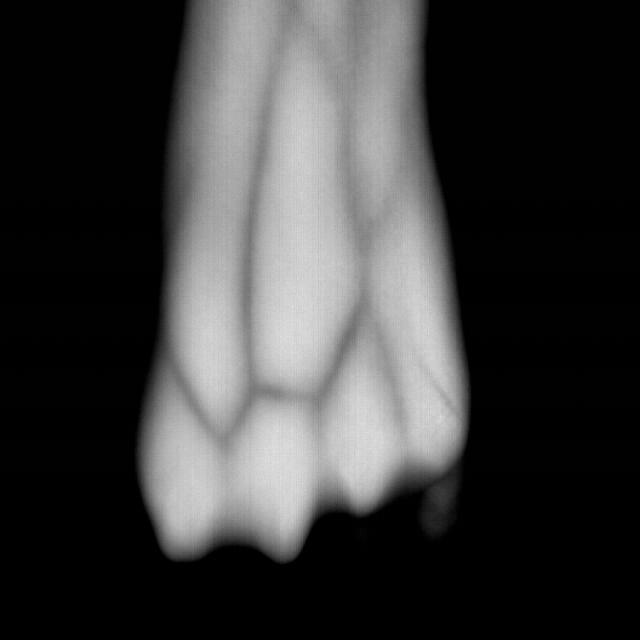Vein: (234, 38, 367, 424)
